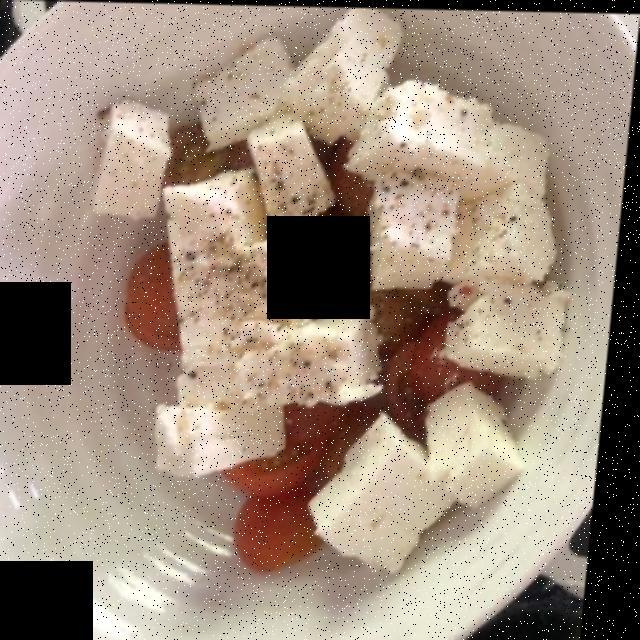salad: (99, 25, 573, 565)
